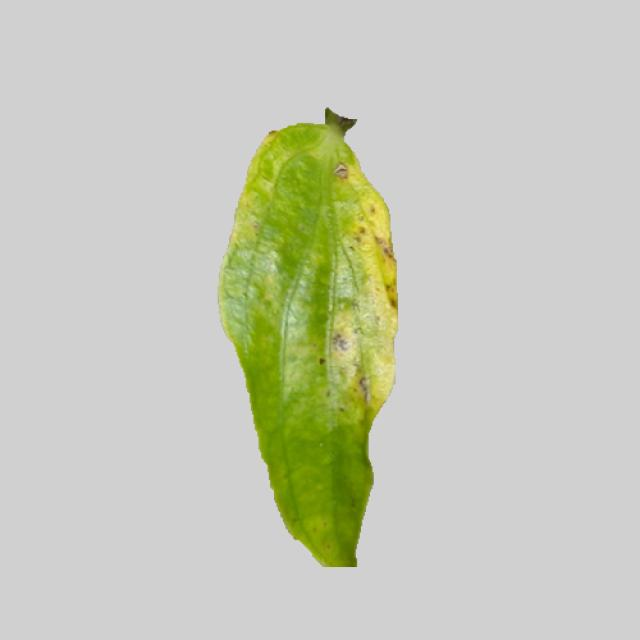yellow-mottle-virus: (200, 111, 406, 567)
